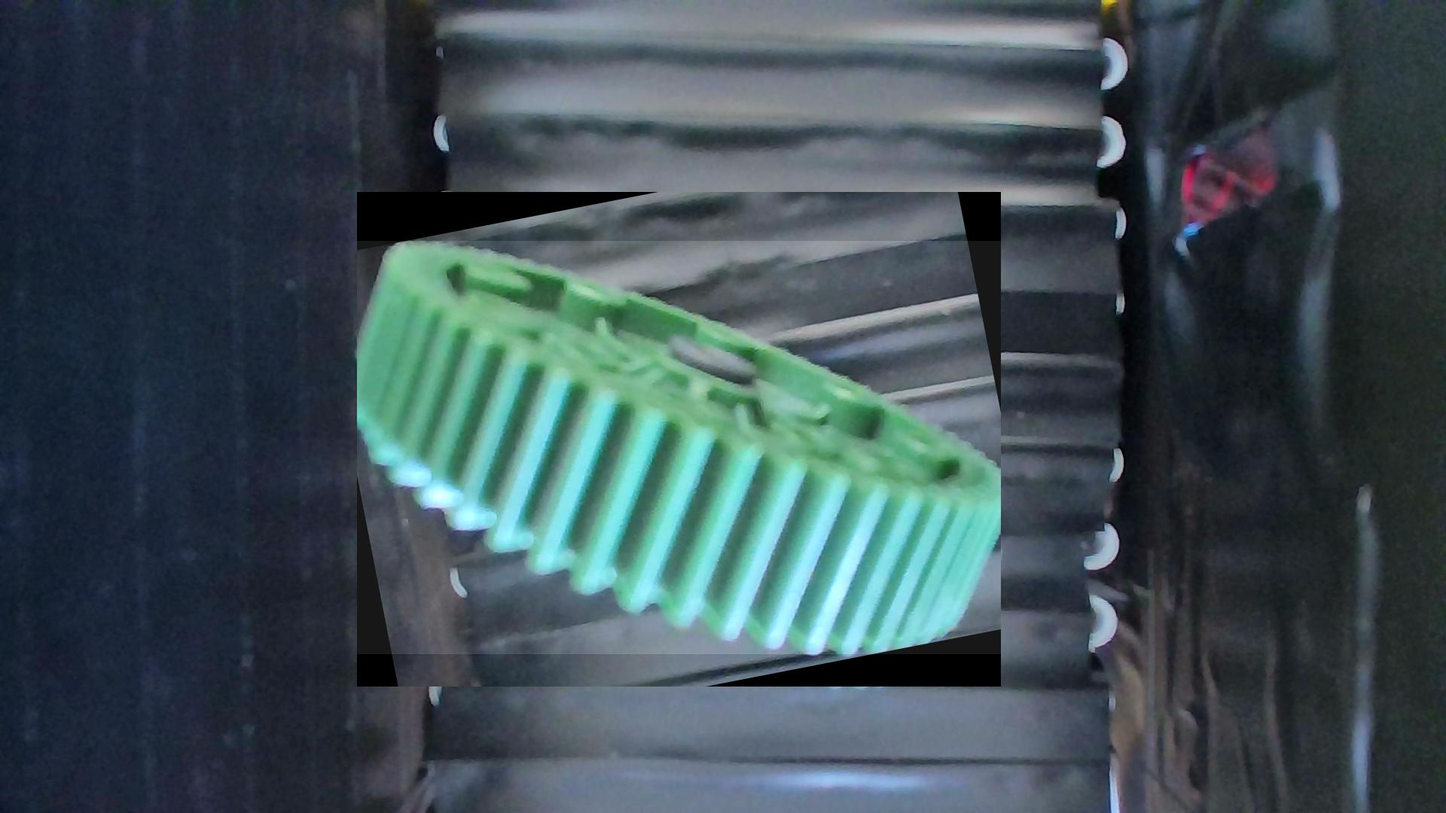gear: (357, 241, 1001, 654)
